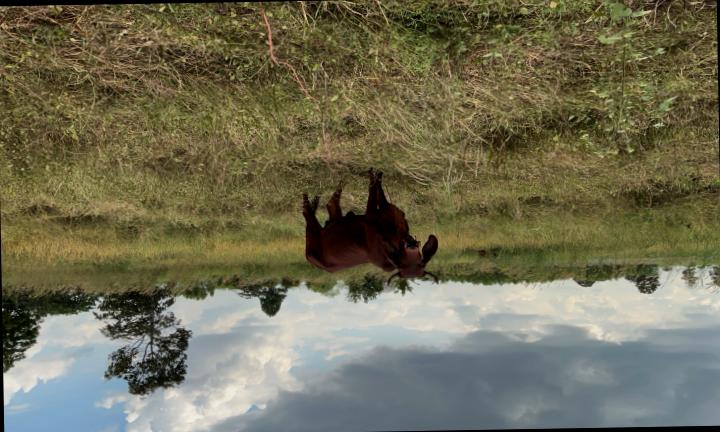Brahman: (303, 172, 438, 284)
